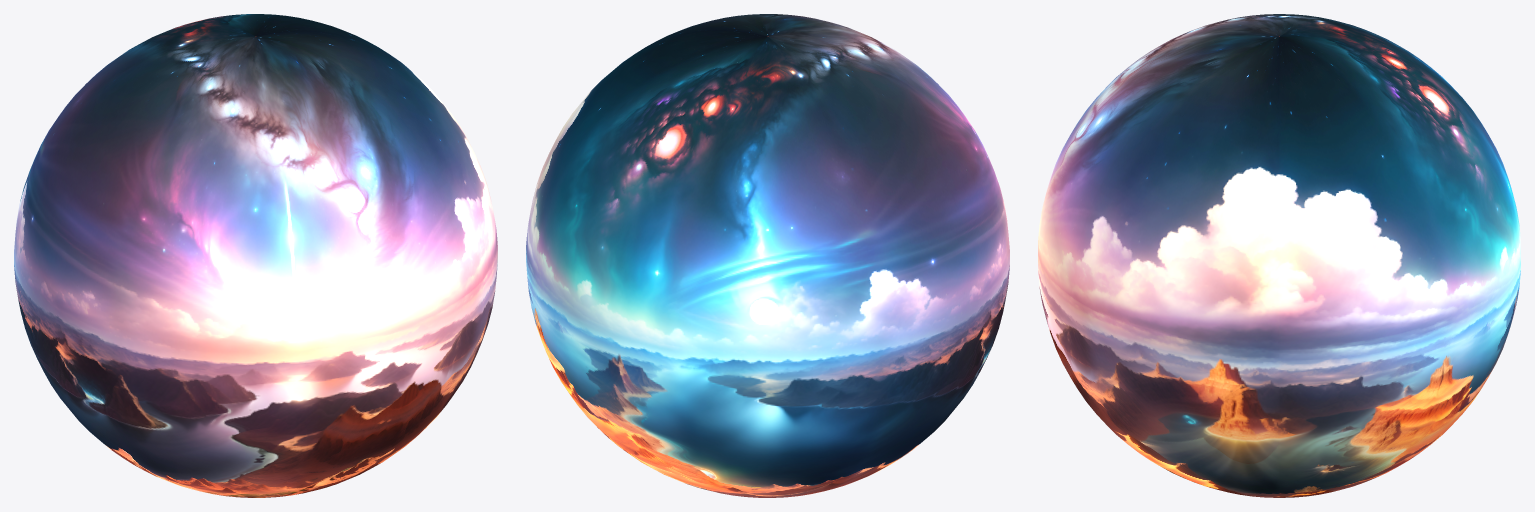
Rendered from nightsky-CXS_ra1y.glb.
3 renders of one model, left to right at view 1: azimuth 30°, elevation 25°; view 2: azimuth 150°, elevation 25°; view 3: azimuth 270°, elevation 25°, orthographic.
Visible parts, largest first — view 1: pack1; view 2: pack1; view 3: pack1.
Part boxes in pixels (box(x1,y1,x2,y2)): pack1: box(14, 14, 497, 497); pack1: box(526, 14, 1009, 497); pack1: box(1038, 14, 1520, 497).
Bounding box in the file's own units: 0.2478 × 0.248 × 0.2473.
1 material, 1 textured.
